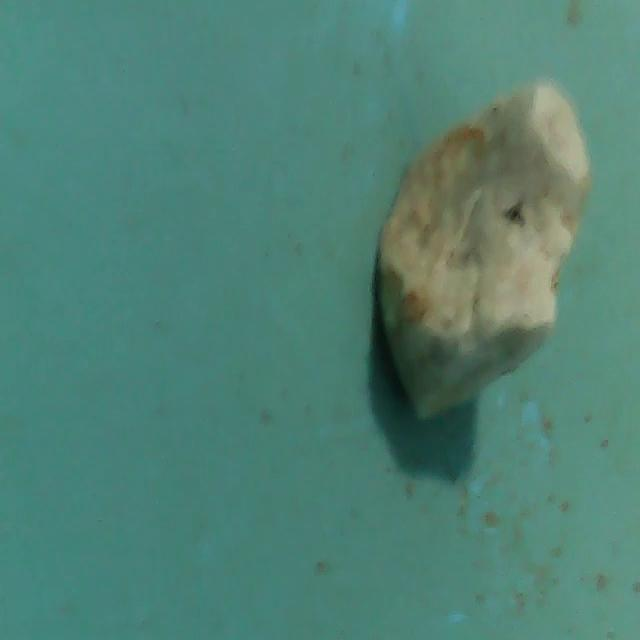rock: (371, 77, 594, 430)
